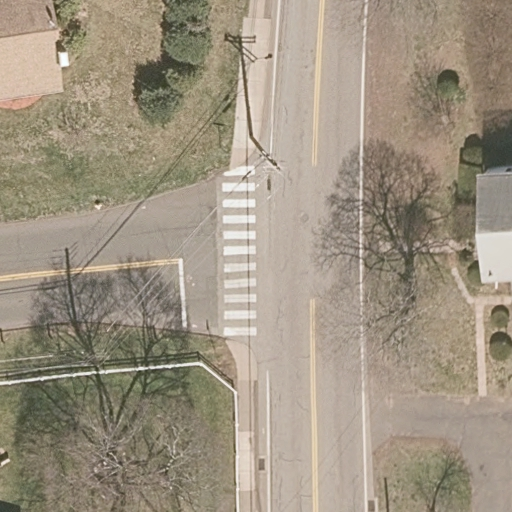DT: (249, 135, 293, 185)
